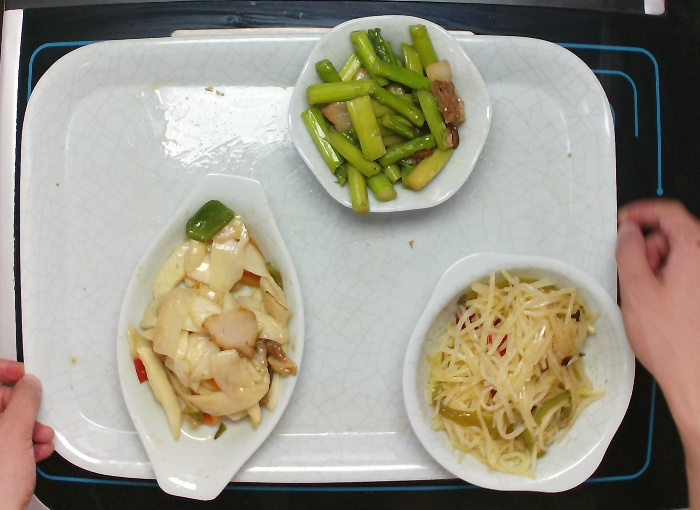JYsf-Shuang_Er_Wan: (394, 245, 635, 494)
JYsf-Yu_Pan: (114, 166, 309, 508)
WCQzf-Hua_Duo_Wan: (288, 7, 498, 221)
